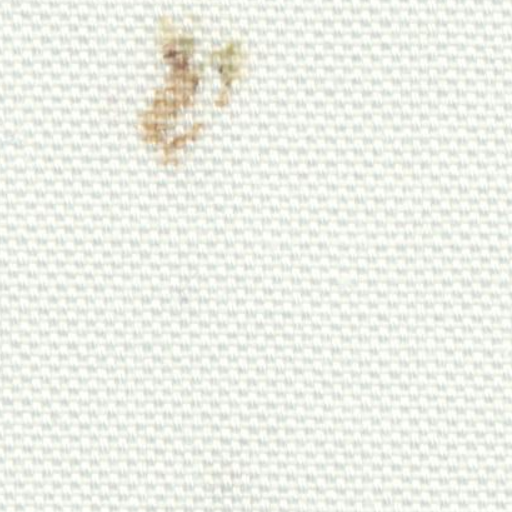WuZi: (120, 14, 261, 170)
